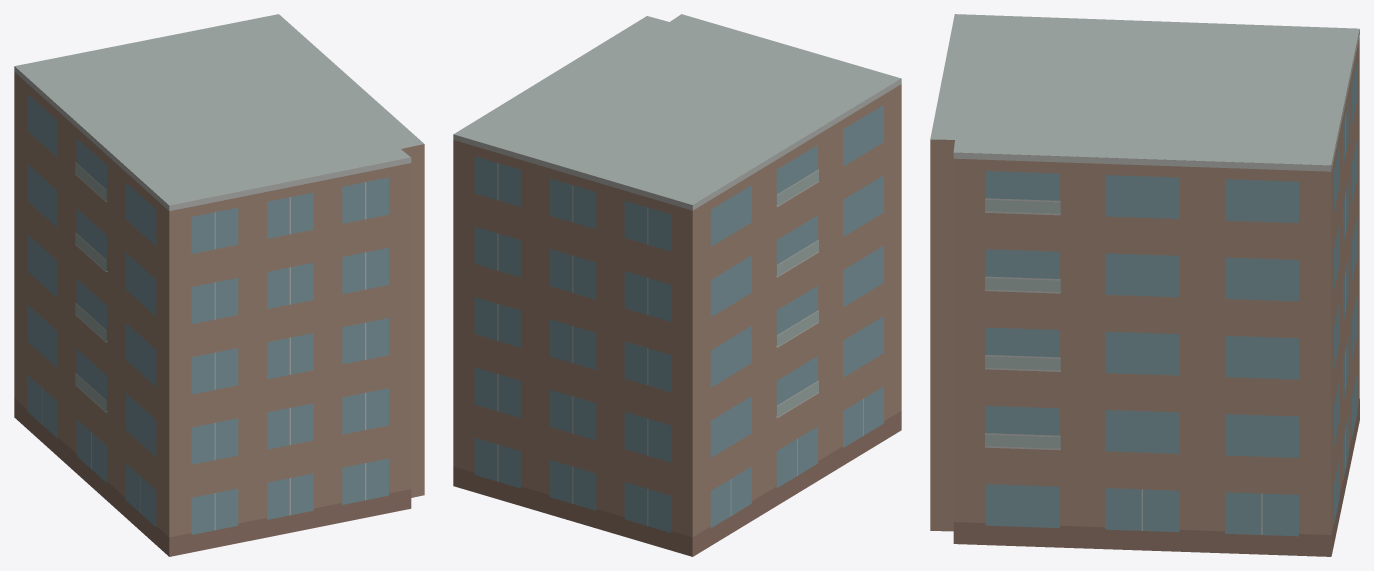
File: survey-upis-32582991.glb
3 renders of one model, left to right at view 1: azimuth 30°, elevation 25°; view 2: azimuth 150°, elevation 25°; view 3: azimuth 270°, elevation 25°, orthographic. The views are drawn at different scales.
Parts seen in each view (by area): view 1: survey-upis-32582991.tmp; view 2: survey-upis-32582991.tmp; view 3: survey-upis-32582991.tmp.
Boxes of the visible parts, x1=… form: survey-upis-32582991.tmp: x1=14, y1=14, x2=424, y2=556; survey-upis-32582991.tmp: x1=453, y1=14, x2=901, y2=556; survey-upis-32582991.tmp: x1=930, y1=14, x2=1359, y2=556.
Bounding box in the file's own units: 12.79 × 15.4 × 15.33.
